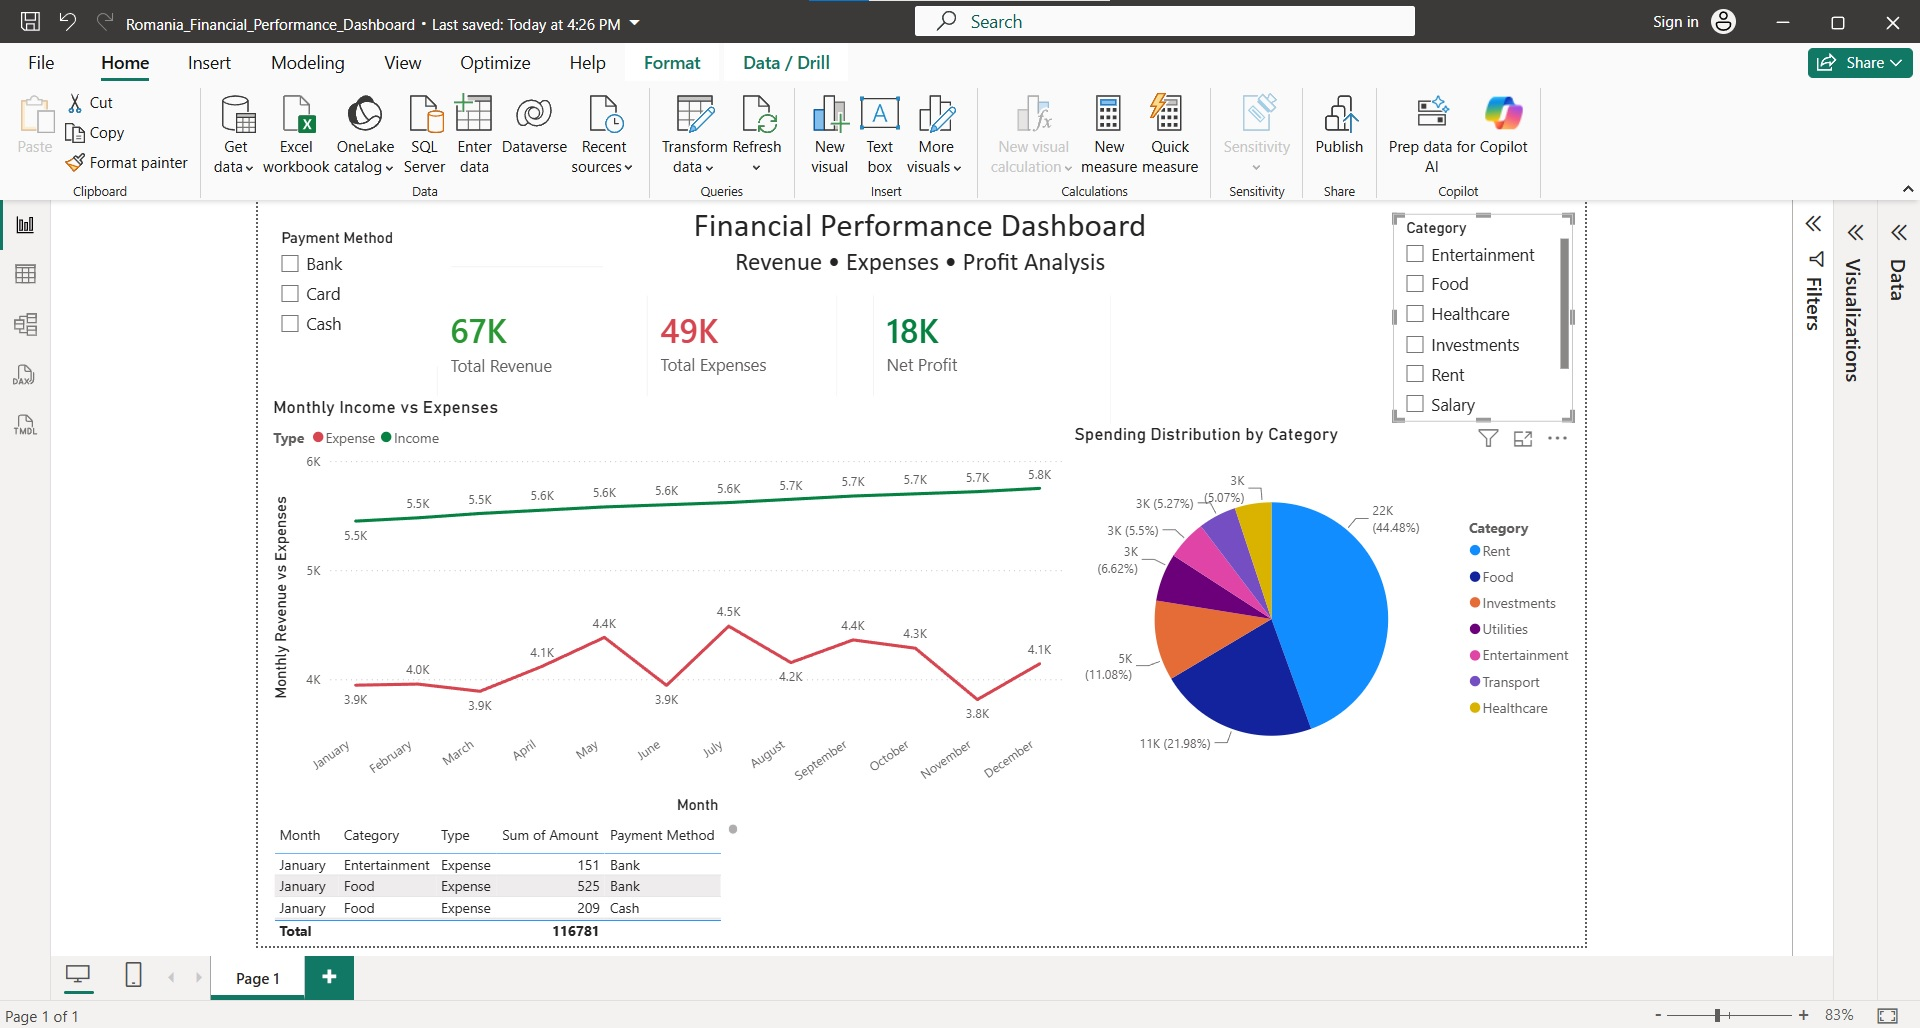

What the dashboard file says about the page in this screenshot:
{"tool":"powerbi","page":{"name":"Page 1","canvas":[1280,720],"ordinal":0},"visuals":[{"type":"cardVisual","fields":{"Data":["Transactions.Revenue"]},"box":[155.1,46.7,256.6,178.4],"z":0},{"type":"cardVisual","fields":{"Data":["Transactions.Expenses"]},"box":[358.1,30.2,218.2,211.3],"z":1000},{"type":"cardVisual","fields":{"Data":["Transactions.Net Profit"]},"box":[576.3,30.2,264.8,211.3],"z":2000},{"type":"lineChart","title":"Monthly Income vs Expenses","fields":{"Category":["Transactions.Date.Variation.Date Hierarchy.Month"],"Y":["Sum(Transactions.Amount)"],"Series":["Transactions.Type"]},"box":[9.6,189.4,773.9,407.5],"z":3000},{"type":"pieChart","title":"Spending Distribution by Category","fields":{"Category":["Transactions.Category"],"Y":["Sum(Transactions.Amount)"]},"box":[783.5,215.4,496.7,358.1],"z":4000},{"type":"textbox","box":[333.4,0,612,91.9],"z":5000},{"type":"slicer","fields":{"Values":["Transactions.Payment Method"]},"box":[9.6,23.3,177,137.2],"z":6000},{"type":"slicer","fields":{"Values":["Transactions.Category"]},"box":[1095,13.7,174.3,200.3],"z":6001},{"type":"tableEx","fields":{"Values":["Transactions.Date.Variation.Date Hierarchy.Month","Transactions.Category","Transactions.Type","Sum(Transactions.Amount)","Transactions.Payment Method"]},"box":[9.6,596.9,458.3,123.5],"z":6002}]}

Visuals, with their boxes on the page's 1280x720 design canvas (x1, y1, x2, y2). These are canvas units, not pixel positions in the 1920x1028 screenshot, which may show the page scaled, cropped or inside an application window:
cardVisual - Transactions.Revenue: {"x1": 155, "y1": 47, "x2": 412, "y2": 225}
cardVisual - Transactions.Expenses: {"x1": 358, "y1": 30, "x2": 576, "y2": 242}
cardVisual - Transactions.Net Profit: {"x1": 576, "y1": 30, "x2": 841, "y2": 242}
"Monthly Income vs Expenses" lineChart: {"x1": 10, "y1": 189, "x2": 784, "y2": 597}
"Spending Distribution by Category" pieChart: {"x1": 784, "y1": 215, "x2": 1280, "y2": 574}
textbox: {"x1": 333, "y1": 0, "x2": 945, "y2": 92}
slicer - Transactions.Payment Method: {"x1": 10, "y1": 23, "x2": 187, "y2": 160}
slicer - Transactions.Category: {"x1": 1095, "y1": 14, "x2": 1269, "y2": 214}
tableEx - Transactions.Date.Variation.Date Hierarchy.Month x Transactions.Category: {"x1": 10, "y1": 597, "x2": 468, "y2": 720}
